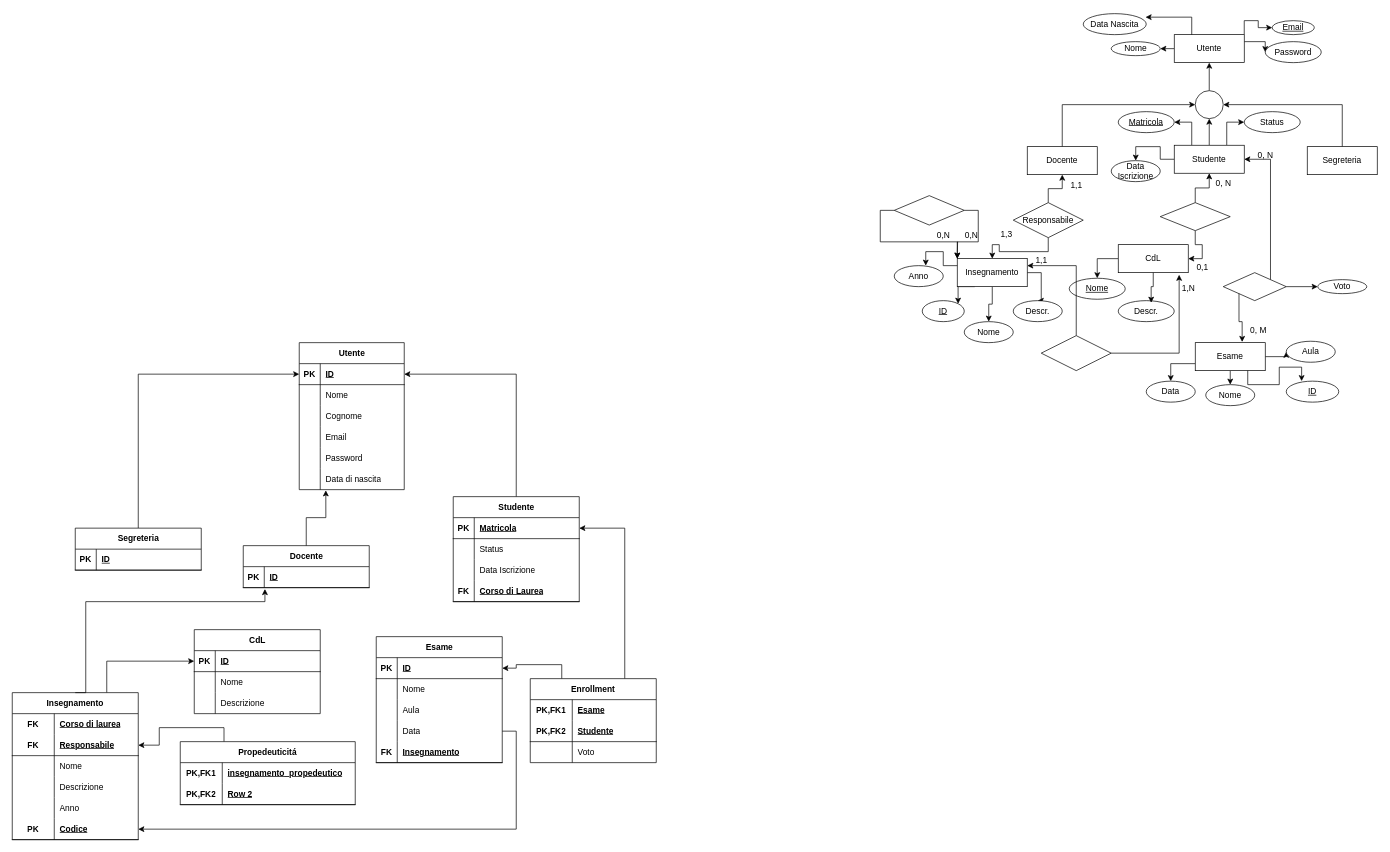
This 1390x852 diagram has some shape labels left out. The centre of each missing label's shape, as x and y in pixels:
Eroga: (x=1076, y=353)
Frequenta: (x=1195, y=216)
Iscritto: (x=1254, y=286)
Propedeutico: (x=929, y=210)
T,D: (x=1209, y=104)
